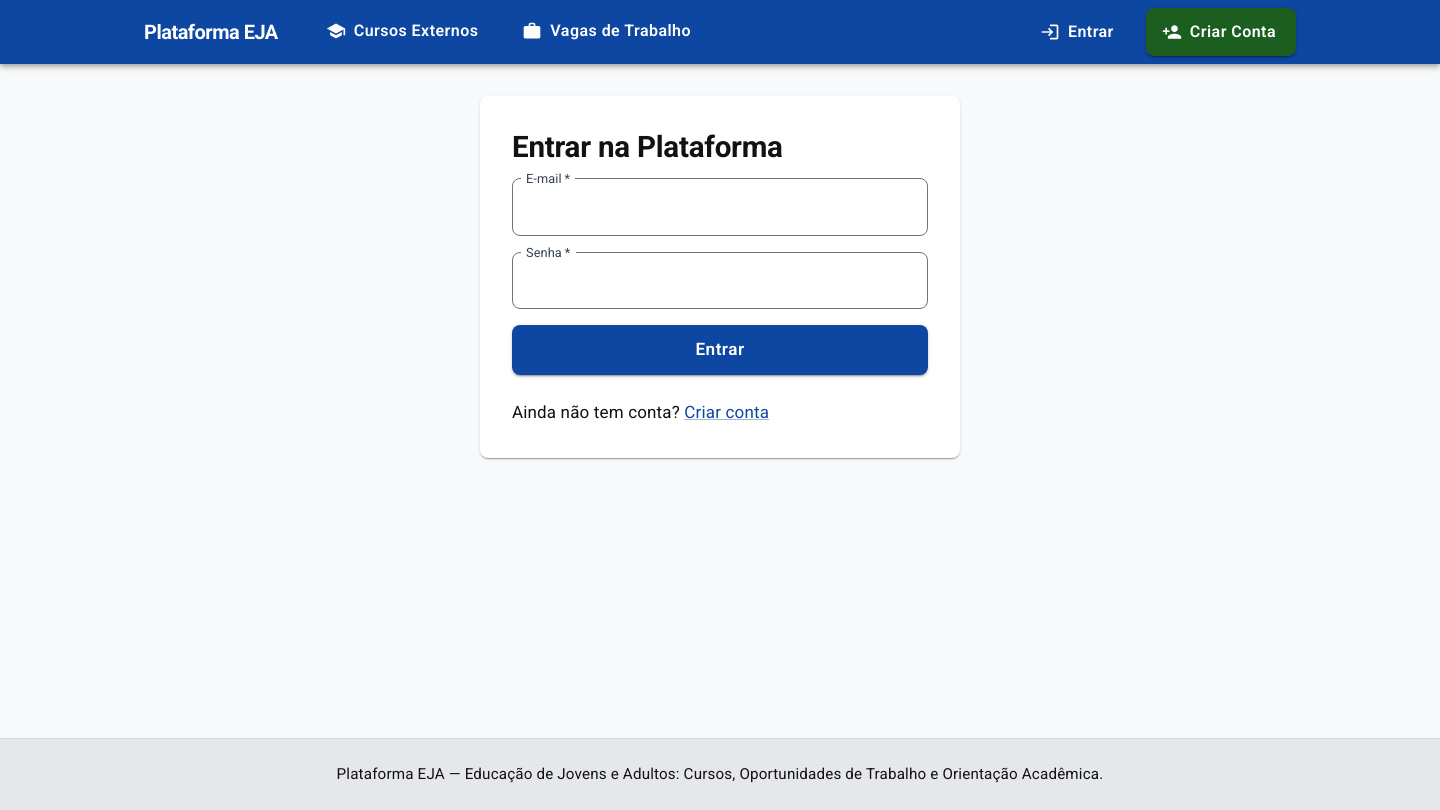
Scenario: credenciais incorretas mostram a mensagem da API
In the field labelled "E-mail *": (720, 207) [512,178,928,236], type "ana@example.com"
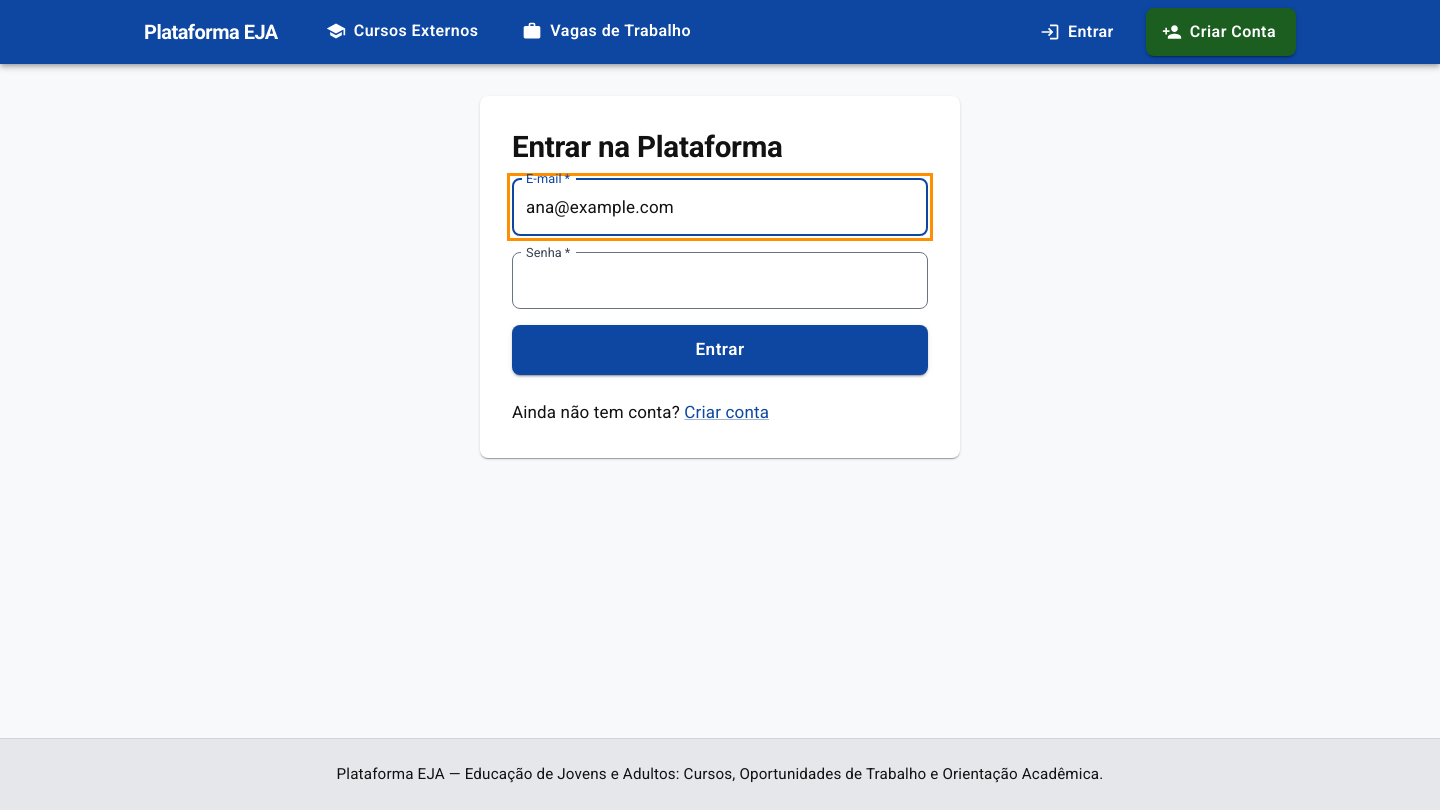
In the password field labelled "Senha *": (720, 280) [512,252,928,309], type "senha-errada-123"
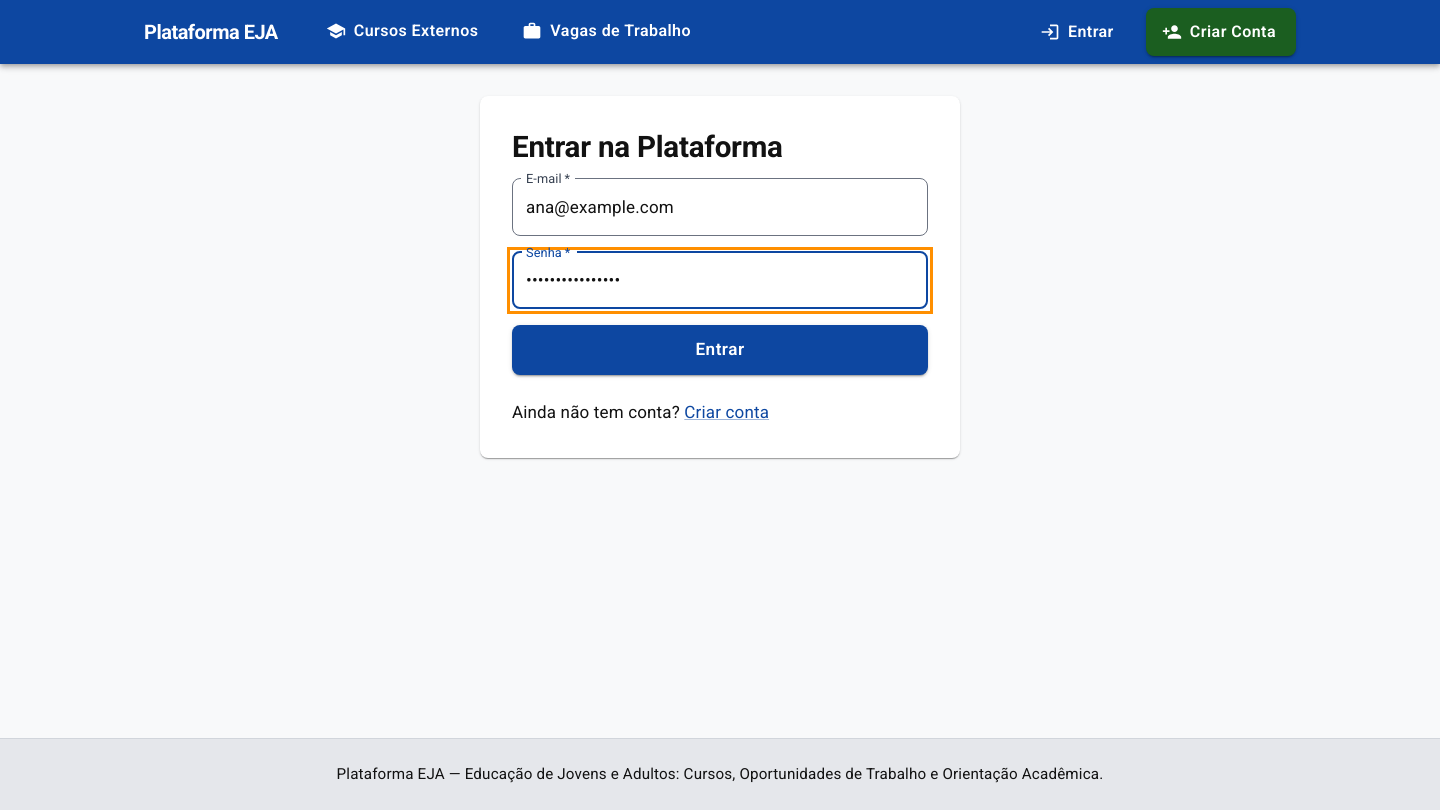
Click the button "Entrar": (720, 350) [512,325,928,375]
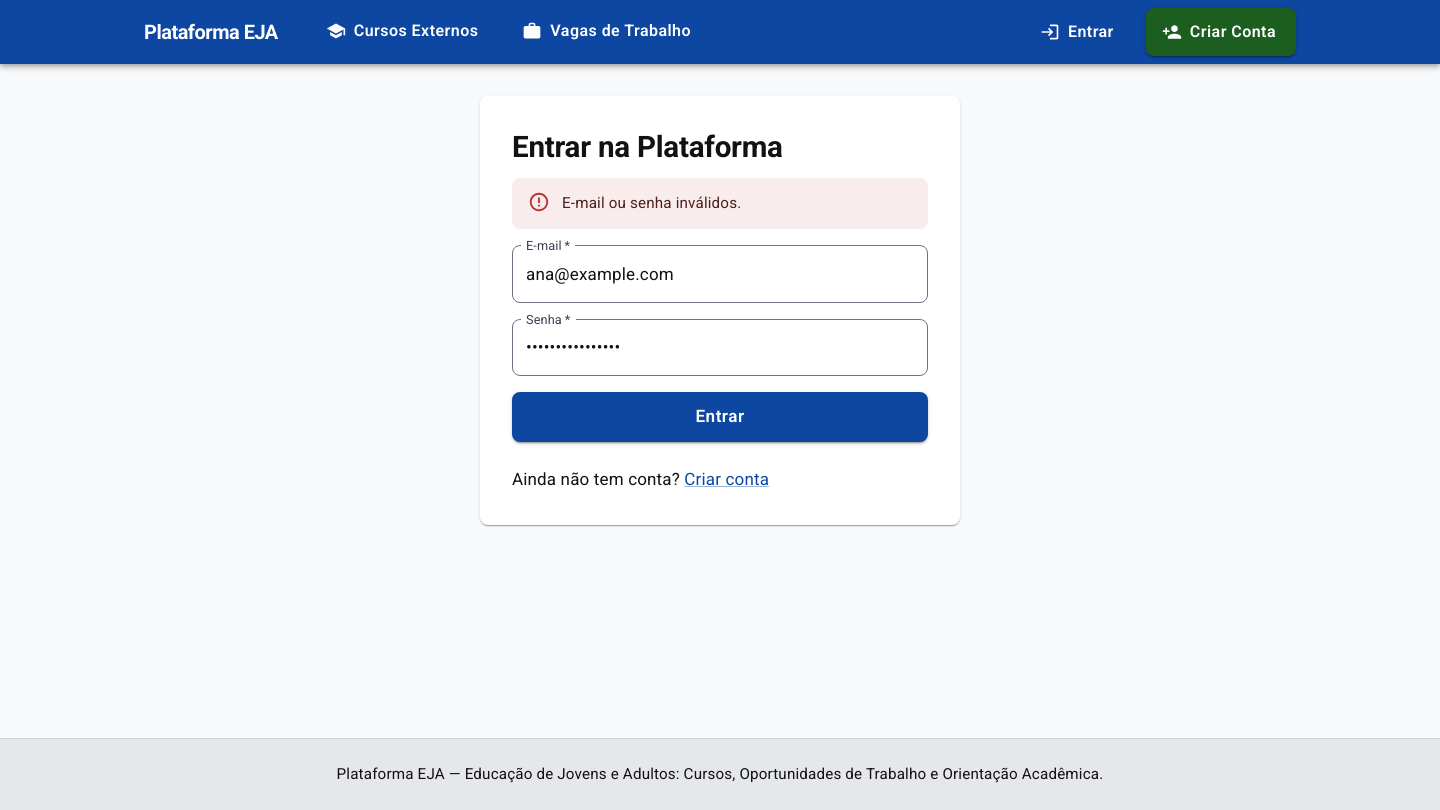
Check: the message reads "E-mail ou senha inválidos.", box [562,194,741,212]
